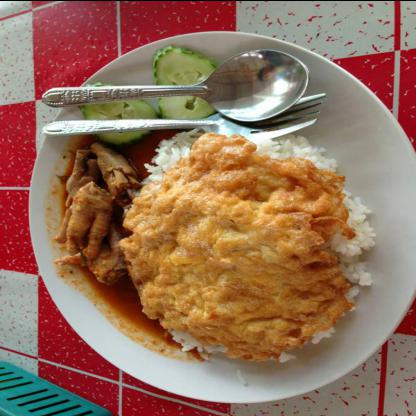Omelette: (53, 68, 383, 370)
